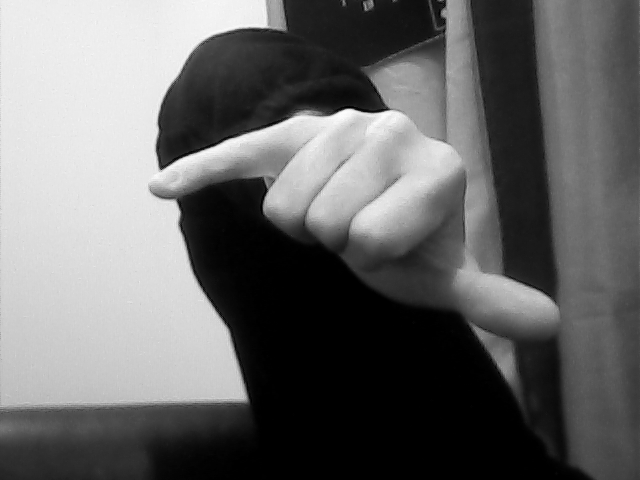aloha: (145, 105, 563, 349)
